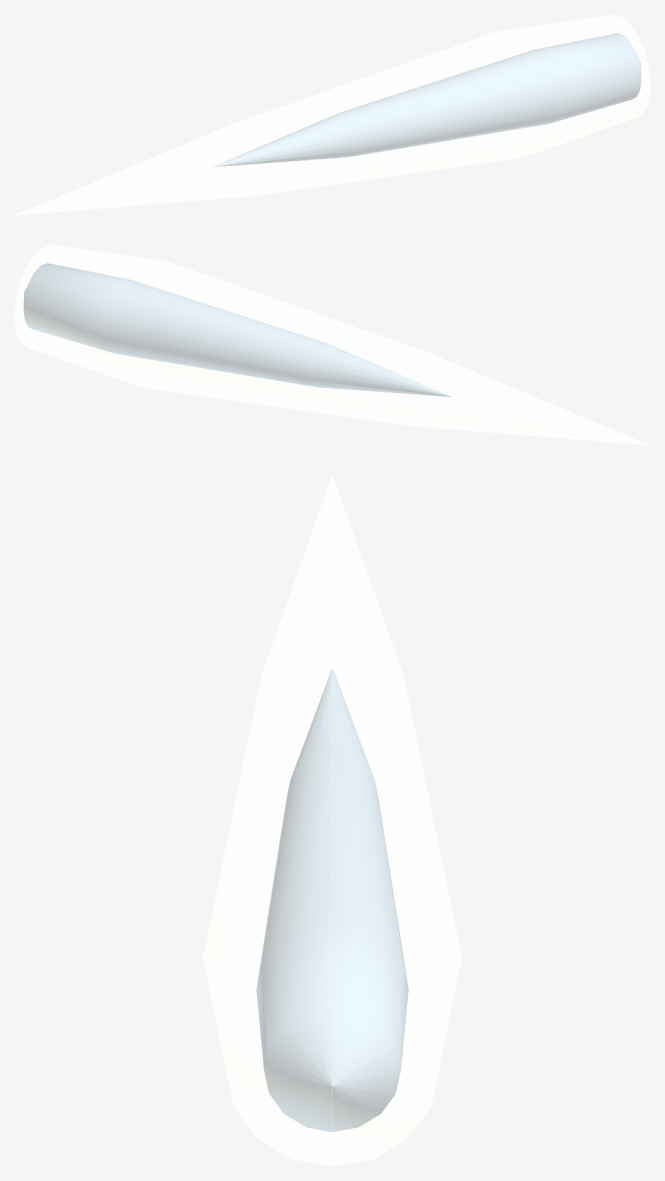
The model's file is SM_VFX_NitroFlame.fbx.
The picture shows the model from 3 angles, top to bottom: view 1: azimuth 30°, elevation 25°; view 2: azimuth 150°, elevation 25°; view 3: azimuth 270°, elevation 25°; orthographic projection. The views are drawn at different scales.
Parts seen in each view (by area): view 1: SM_VFX_NitroFlame; view 2: SM_VFX_NitroFlame; view 3: SM_VFX_NitroFlame.
Boxes of the visible parts, <box> form: SM_VFX_NitroFlame: <box>15,14,650,215</box>; SM_VFX_NitroFlame: <box>14,244,649,445</box>; SM_VFX_NitroFlame: <box>203,474,461,1166</box>.
Bounding box in the file's own units: 192 × 34 × 34.
